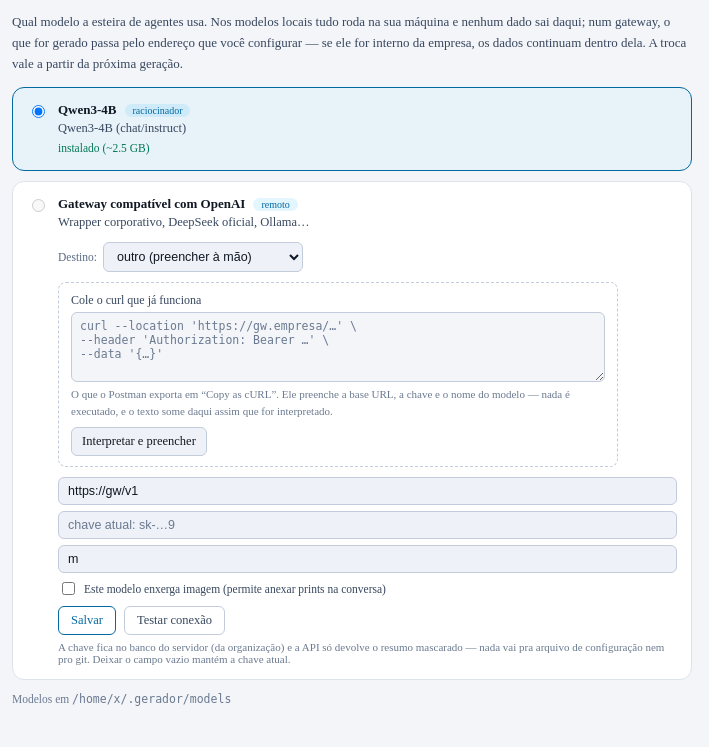
Test case: ModeloIaTab — card do gateway (SPEC-25 Fase 2) › Testar conexão mostra a amostra que o gateway respondeu
Click the button "Testar conexão": (174, 621) x1=124 y1=606 x2=225 y2=635
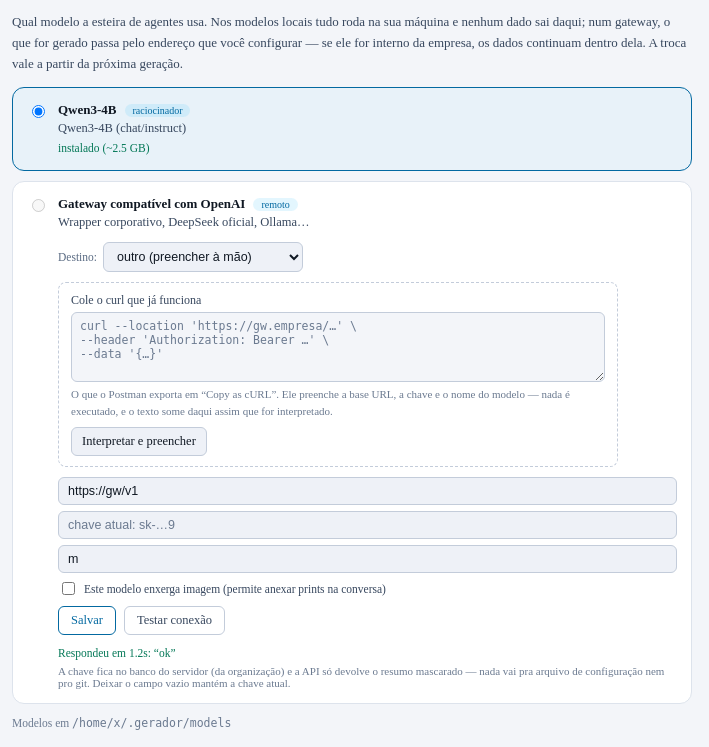
Expected: the text with test id "gateway-resultado" shows "Respondeu em 1.2s", x1=58 y1=647 x2=176 y2=659
Expected: the text with test id "gateway-resultado" shows "ok", x1=58 y1=647 x2=176 y2=659
